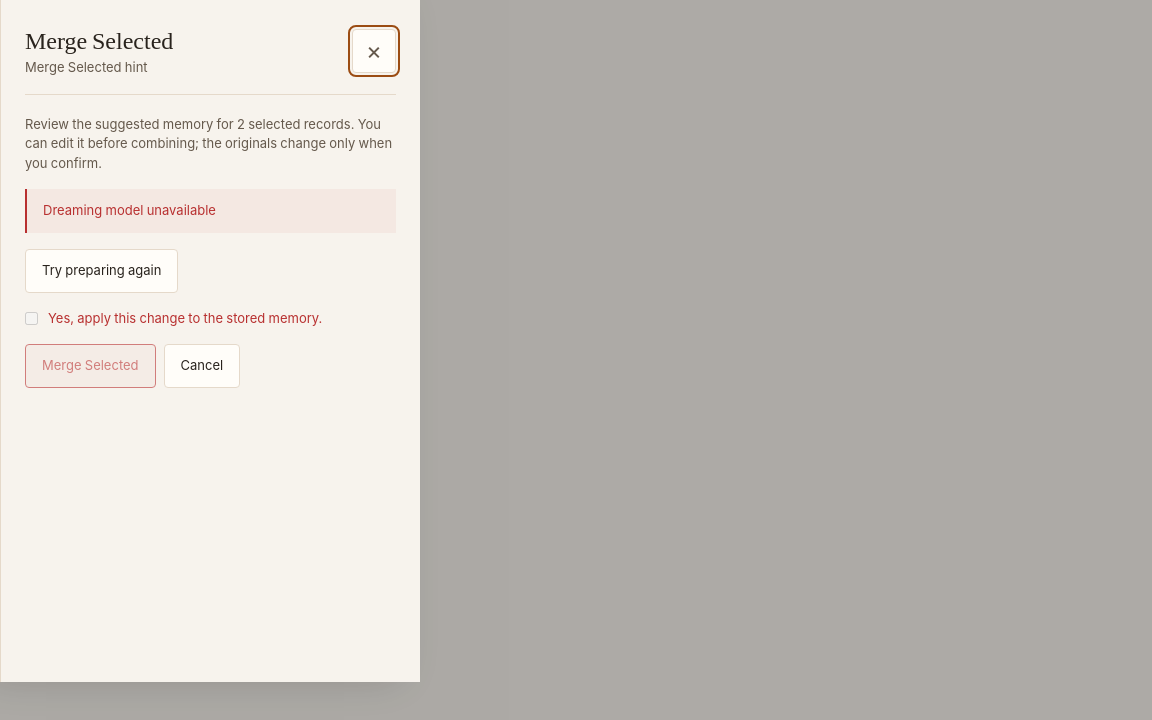
Test: failed merge preparation leaves originals untouched and can be retried
Expected: the message reads "Dreaming model unavailable", x1=43 y1=202 x2=216 y2=219
Expected: the field labelled "Merged memory text" is not shown
Click the button "Try preparing again" at (102, 270), box x1=25 y1=248 x2=178 y2=292
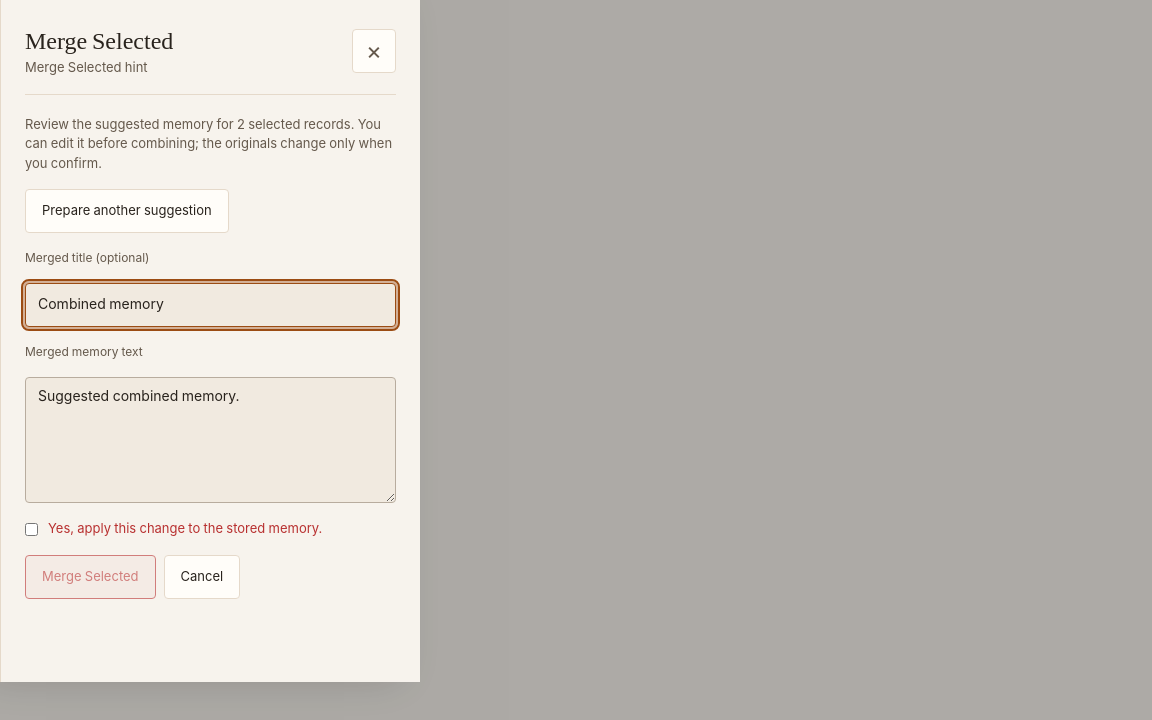
Result: the text box labelled "Merged memory text" holds "Suggested combined memory." at x1=25 y1=377 x2=396 y2=503
